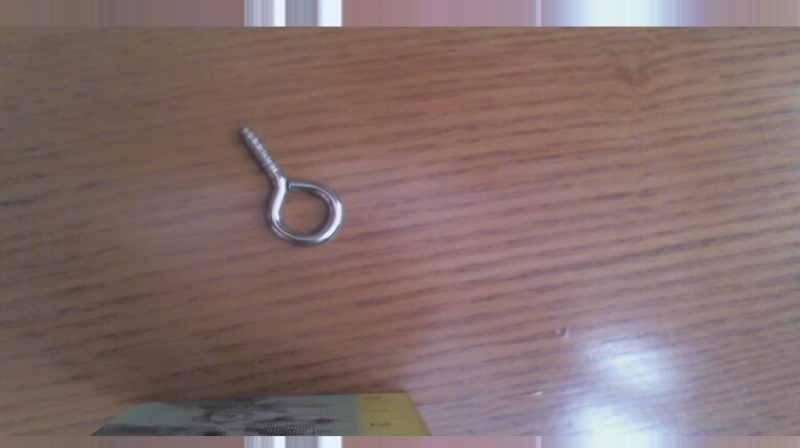O001: (235, 123, 347, 250)
